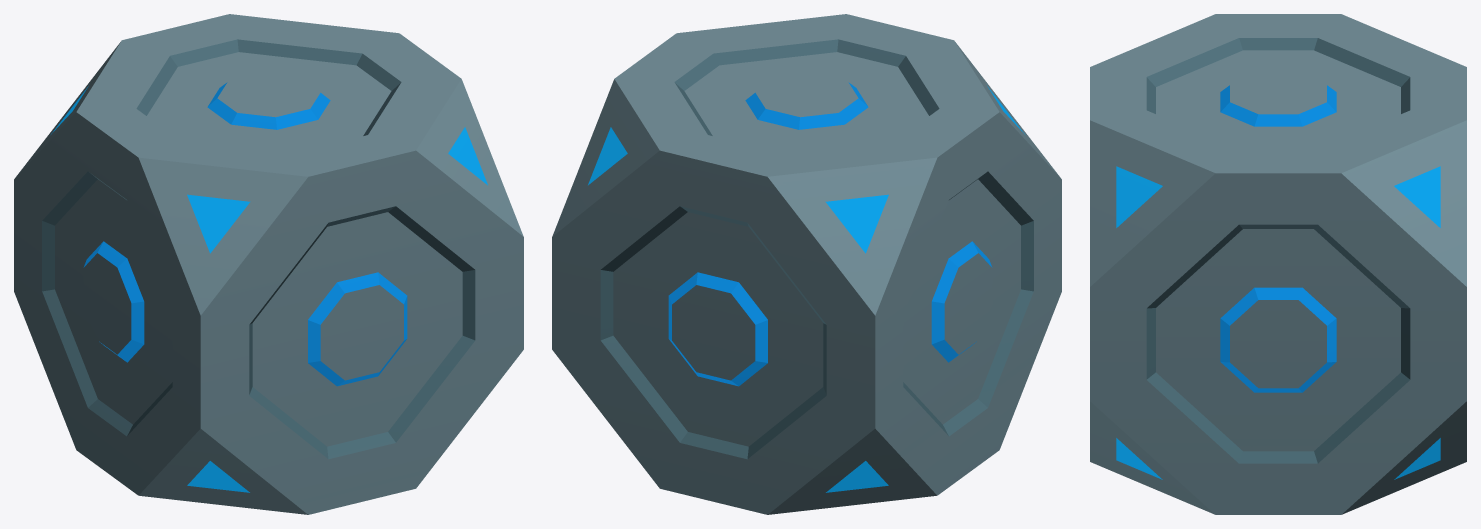
3 views of the same model, side by side, from view 1: azimuth 30°, elevation 25°; view 2: azimuth 150°, elevation 25°; view 3: azimuth 270°, elevation 25° (orthographic).
Parts seen in each view (by area): view 1: Box_009; view 2: Box_009; view 3: Box_009.
Part boxes in pixels (bbox=[...]): Box_009: bbox=[14, 14, 523, 514]; Box_009: bbox=[552, 14, 1061, 514]; Box_009: bbox=[1090, 14, 1466, 514].
Bounding box in the file's own units: 0.6 × 0.6 × 0.6.
Materials: 2 (2 with a texture image).
